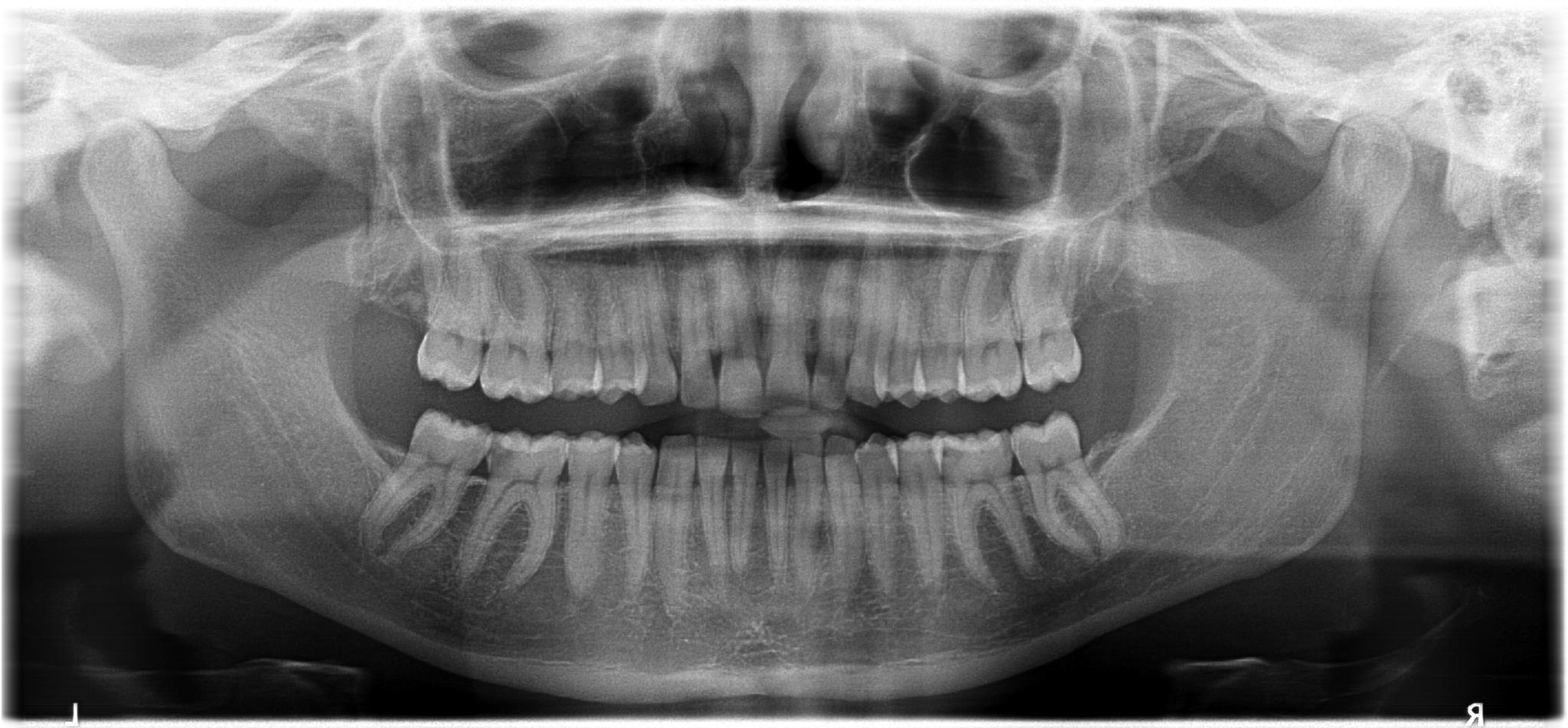Premolars: (528, 211, 1484, 633), (313, 213, 801, 631)
